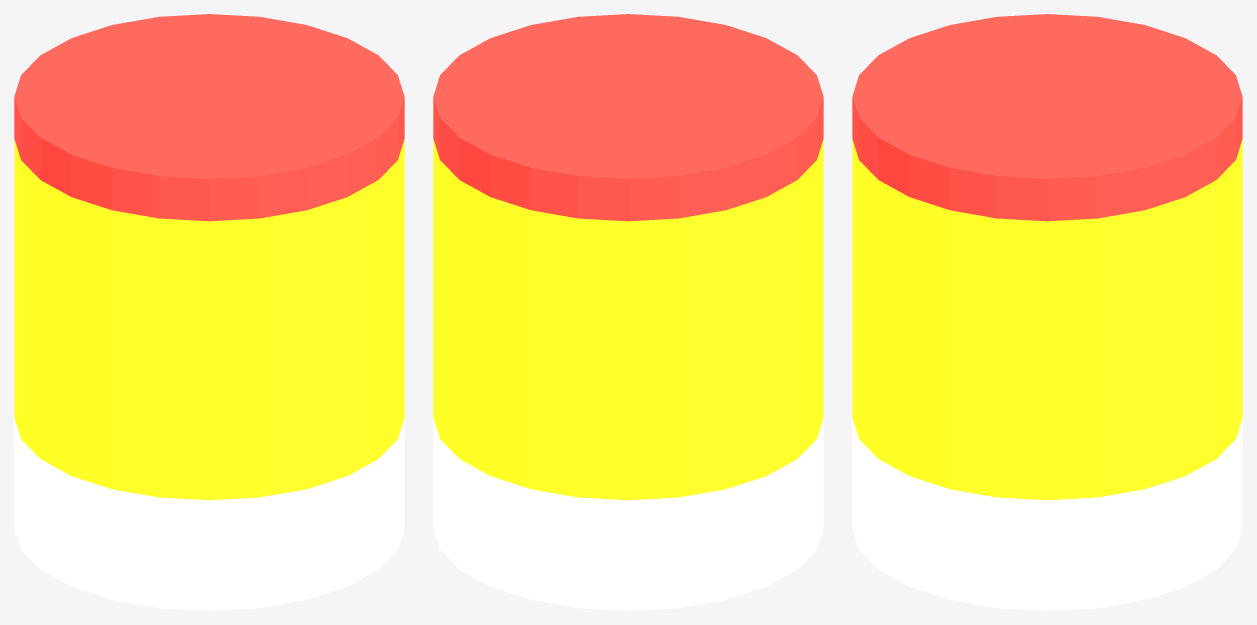
File: cylinders_only.gltf
The picture shows the model from 3 angles, left to right: view 1: azimuth 30°, elevation 25°; view 2: azimuth 150°, elevation 25°; view 3: azimuth 270°, elevation 25°; orthographic projection.
Parts seen in each view (by area): view 1: liq_2, liq_3, liq_1; view 2: liq_2, liq_3, liq_1; view 3: liq_2, liq_3, liq_1.
Boxes of the visible parts, x1,y1,x2,y2 form: liq_2: [14, 139, 404, 500]; liq_3: [14, 14, 404, 221]; liq_1: [14, 419, 404, 610]; liq_2: [433, 139, 823, 500]; liq_3: [433, 14, 823, 221]; liq_1: [433, 419, 823, 610]; liq_2: [852, 139, 1242, 500]; liq_3: [852, 14, 1242, 221]; liq_1: [852, 419, 1242, 610].
Size of the model in its own units: 2 by 2.44 by 2.
